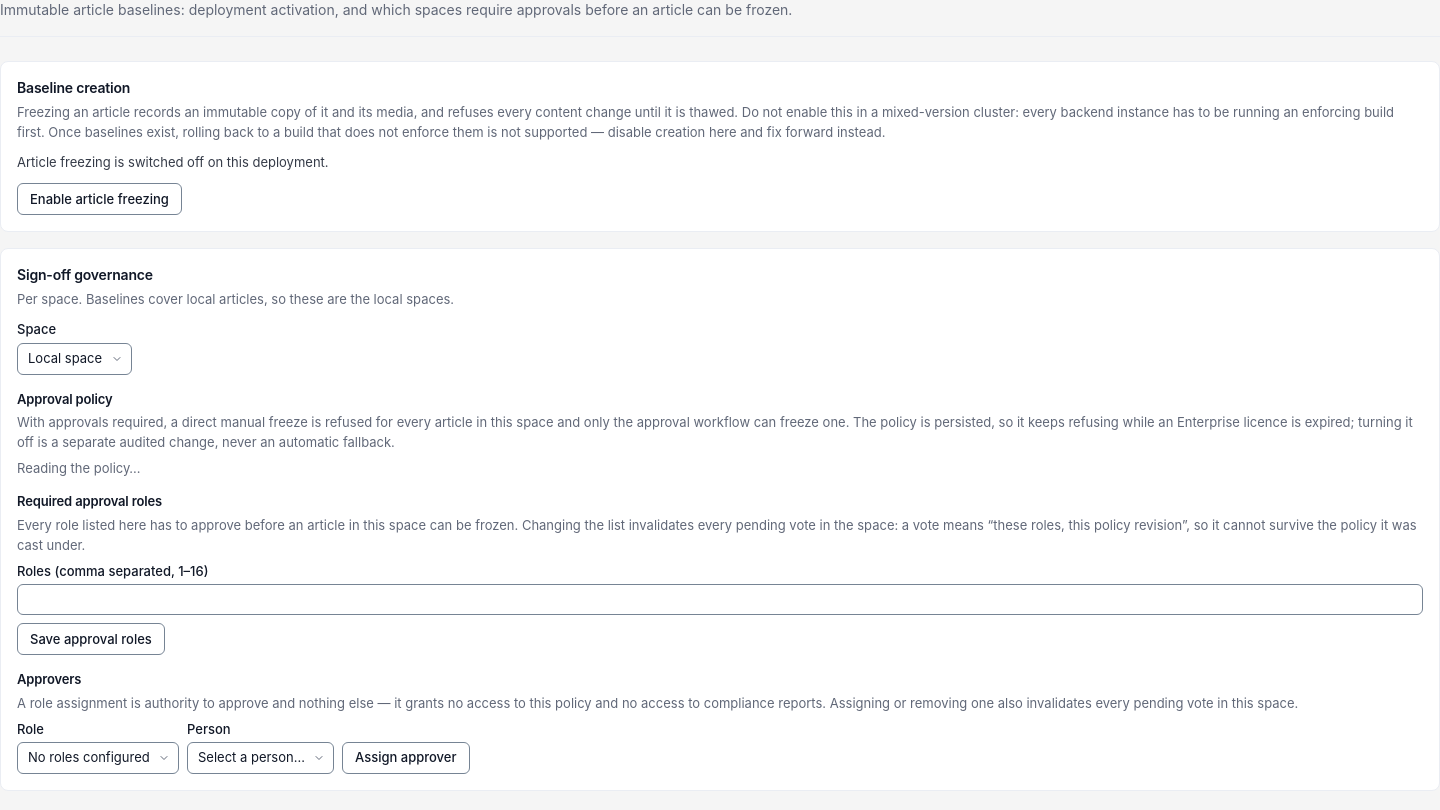
Scenario: article baselines admin panel › names the standalone requirement when the server refuses on Confluence
Expected: the text "Article freezing is switched off on this deployment." is shown, [17,154,329,170]
Click the button with test id "activation-toggle". click: (99, 199)
box: [17,183,182,215]
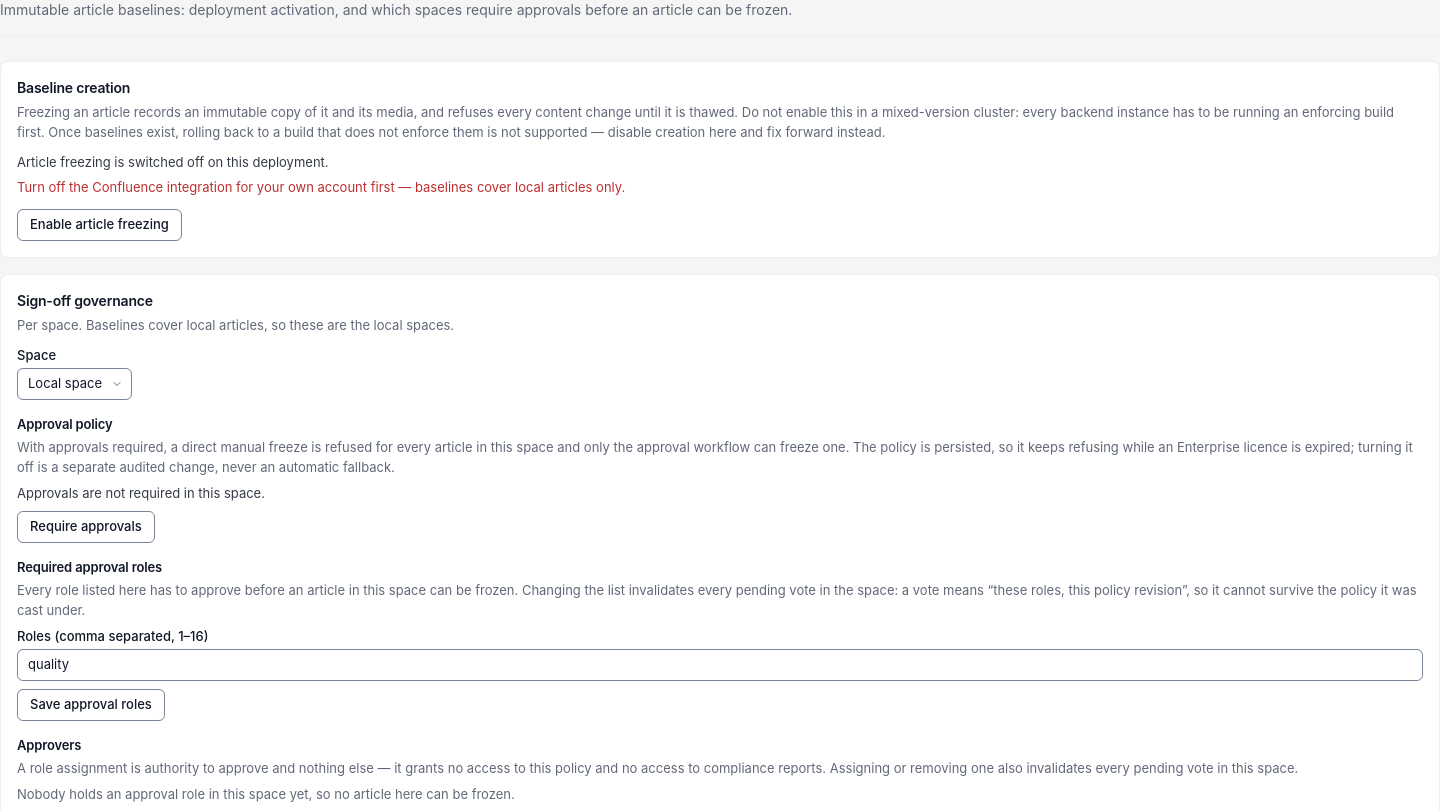
Now the text with test id "activation-save-error" shows "Confluence integration", box [17,179,625,195]
